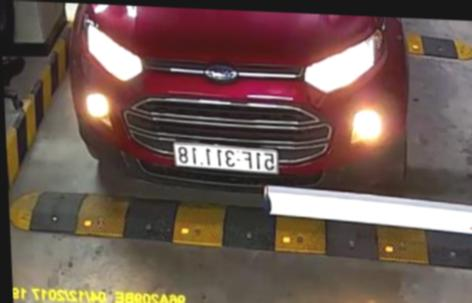License_Plate: (171, 142, 282, 174)
